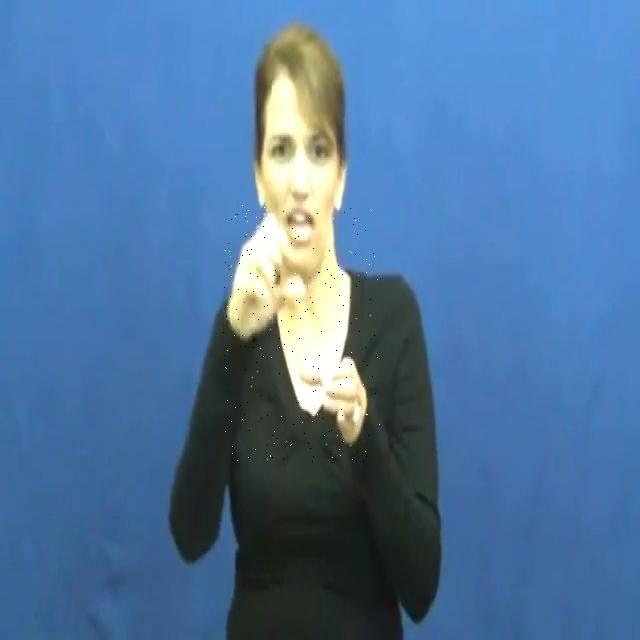straw: (223, 204, 381, 462)
